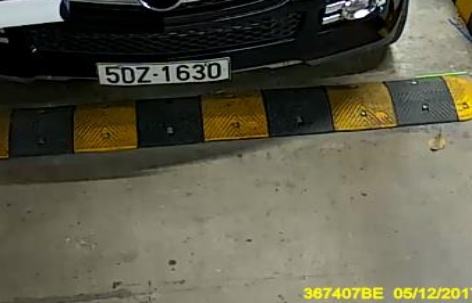plate: (97, 51, 237, 87)
